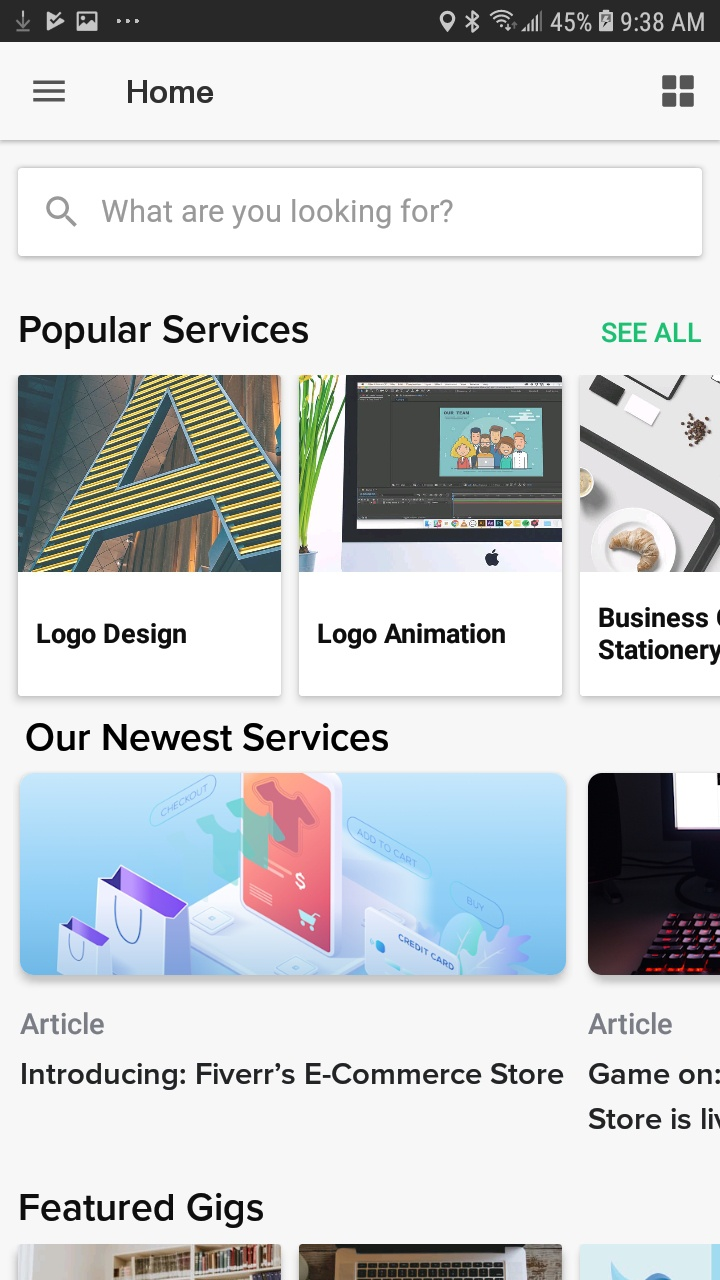EditText: (18, 167, 703, 257)
Icon: (662, 76, 695, 109), (47, 197, 78, 228), (33, 80, 67, 104)
Image: (20, 773, 564, 976), (19, 375, 282, 573), (299, 375, 563, 572), (580, 375, 720, 573), (587, 773, 719, 976), (299, 1243, 563, 1280), (18, 1244, 282, 1280), (580, 1244, 720, 1280)
Text: (22, 1062, 564, 1091), (103, 198, 454, 230), (26, 722, 389, 752), (20, 315, 309, 350), (21, 1192, 265, 1229), (588, 1062, 720, 1130), (598, 606, 720, 666), (318, 622, 506, 650), (37, 622, 187, 650), (601, 322, 701, 344), (588, 1011, 673, 1036), (128, 81, 214, 105), (20, 1012, 105, 1036)
UpperTaskBar: (1, 1, 720, 43)
